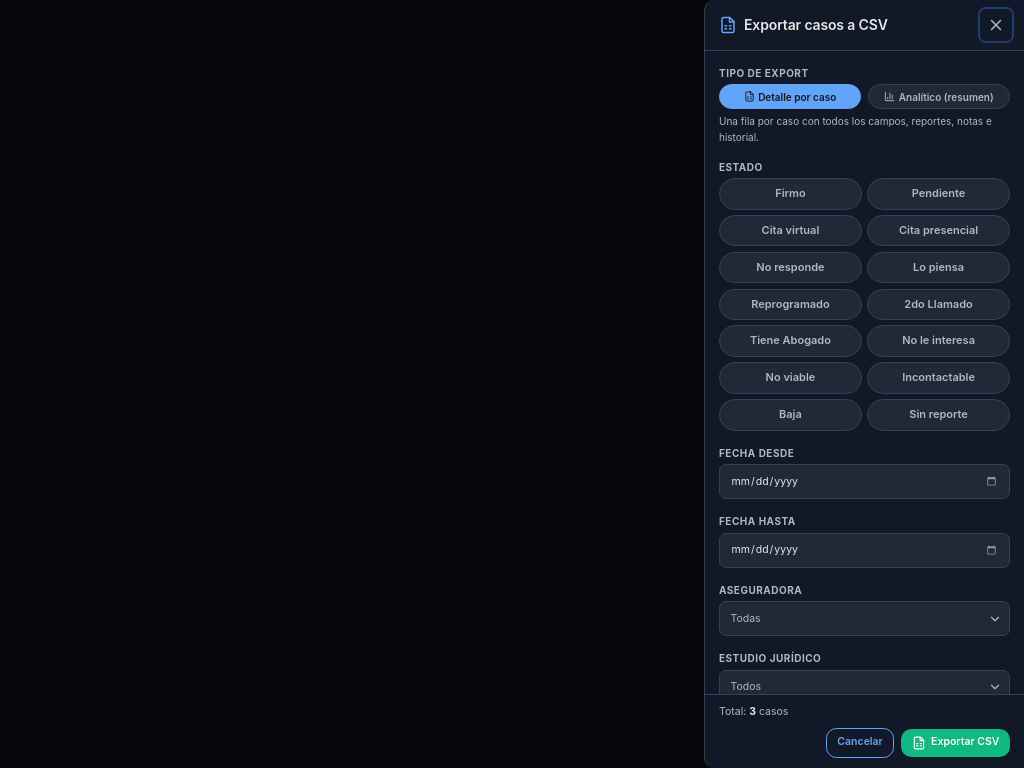
Test case: CsvExportModal › expone Aseguradora/Estudio/Localidad como MultiSelect (sin selects nativos 1.10.1)
Note: Al abrirlo lista las aseguradoras del fixture.
Click the button "Todas". click: [746, 618]
box: [719,601,1010,636]
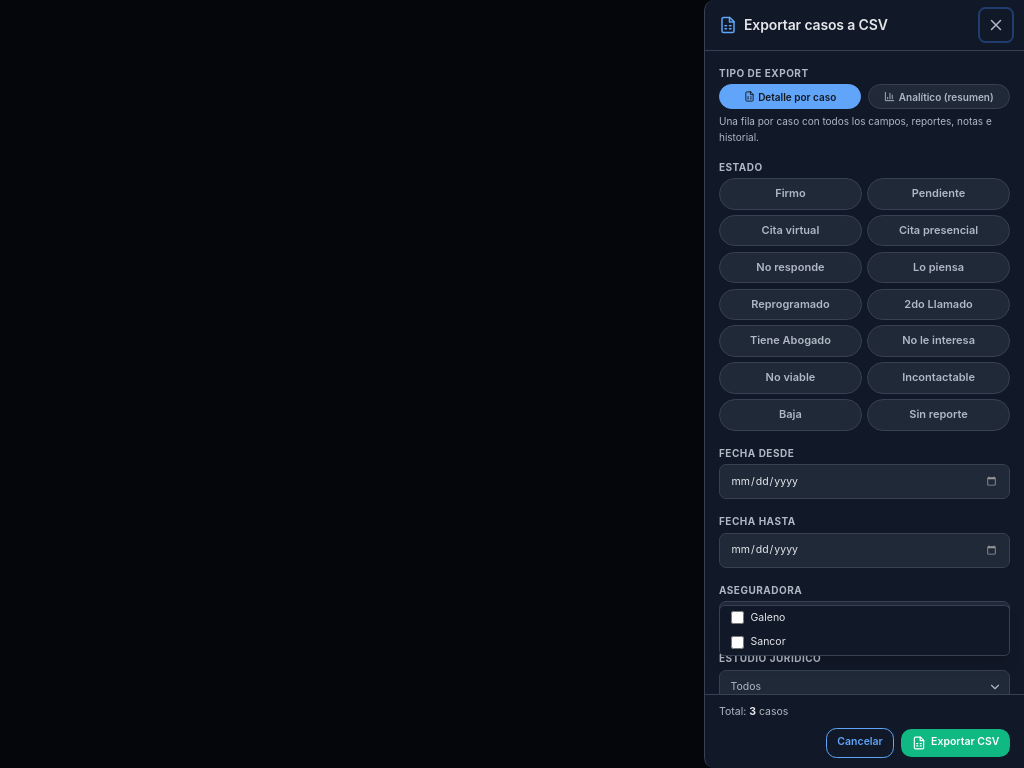
Now the option "Sancor" is shown, box [730,635,786,649]
Now the option "Galeno" is shown, box [730,611,785,624]
